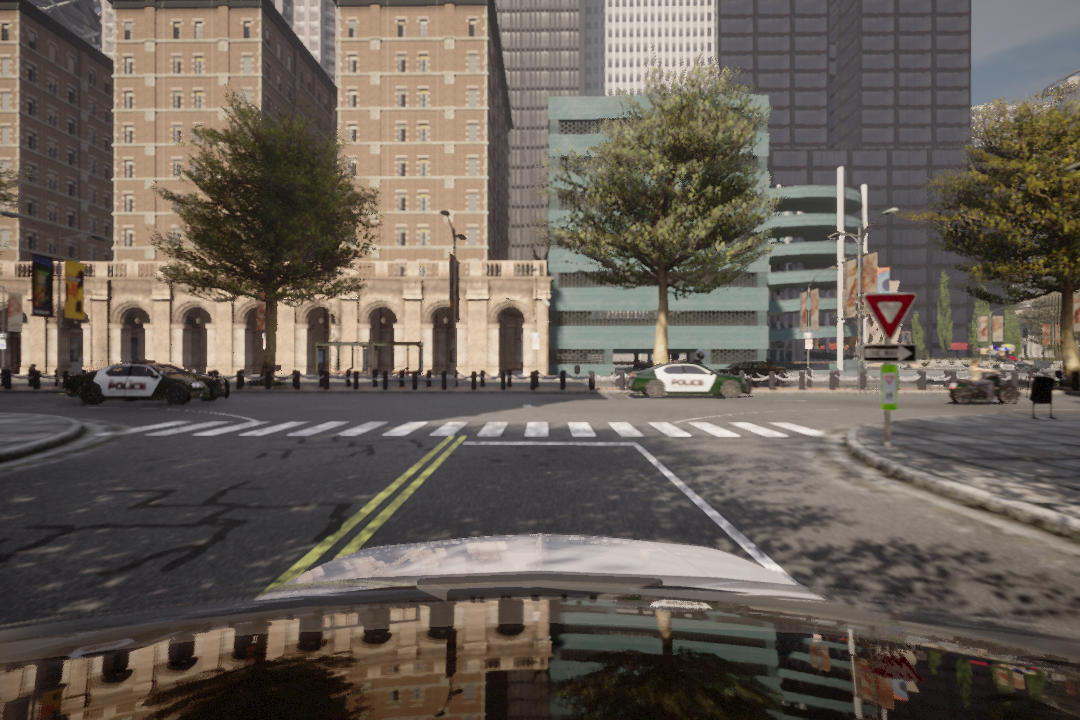walkside: (106, 418, 844, 444)
